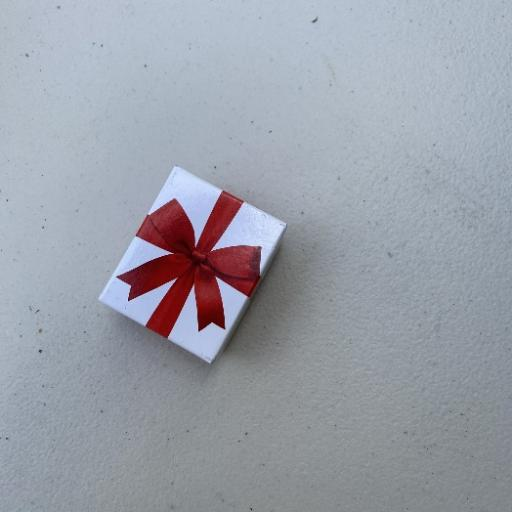Cardboard: (97, 164, 288, 366)
